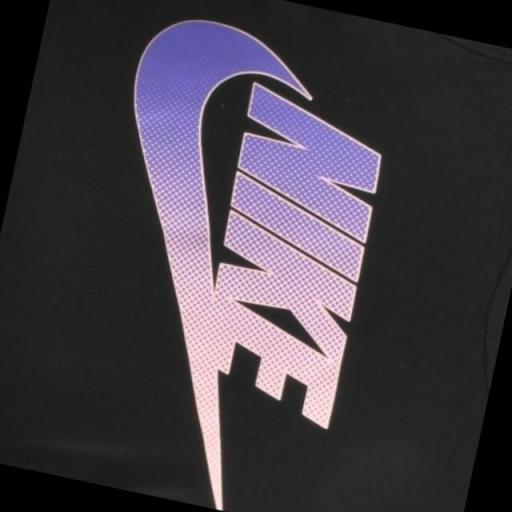Nike: (44, 0, 326, 511), (178, 78, 400, 433)
